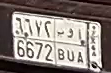2: (43, 20, 53, 62)
6: (15, 17, 25, 58), (24, 18, 34, 59)
7: (35, 19, 43, 60)
A: (76, 28, 84, 64)
B: (56, 29, 65, 61)
U: (66, 27, 75, 63)
